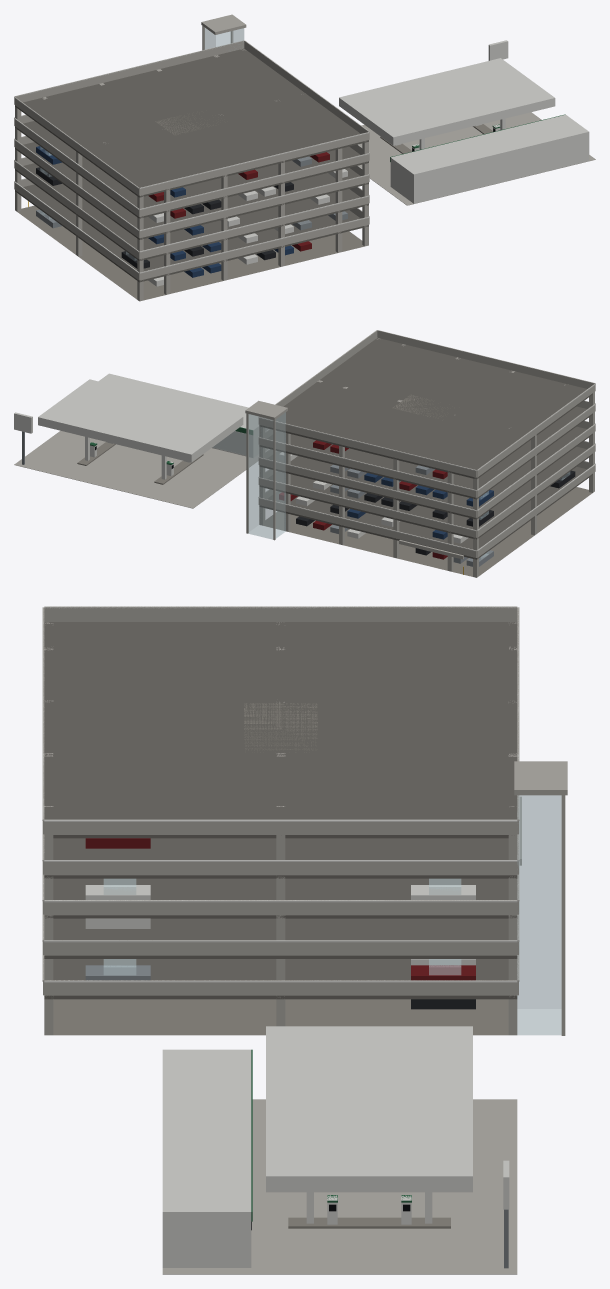
Rendered from roadside.glb.
The picture shows the model from 3 angles, top to bottom: view 1: azimuth 30°, elevation 25°; view 2: azimuth 150°, elevation 25°; view 3: azimuth 270°, elevation 25°; orthographic projection. The views are drawn at different scales.
Visible parts, largest first — view 1: roadside_carpark_body, roadside_petrol_body; view 2: roadside_carpark_body, roadside_petrol_body; view 3: roadside_carpark_body, roadside_petrol_body.
Boxes of the visible parts, bbox=[...] form: roadside_carpark_body: bbox=[14, 14, 369, 301]; roadside_petrol_body: bbox=[339, 40, 595, 205]; roadside_carpark_body: bbox=[245, 330, 595, 577]; roadside_petrol_body: bbox=[14, 373, 268, 508]; roadside_carpark_body: bbox=[42, 606, 567, 1035]; roadside_petrol_body: bbox=[162, 1026, 517, 1274].
Bounding box in the file's own units: 72.74 × 18.4 × 35.54.
